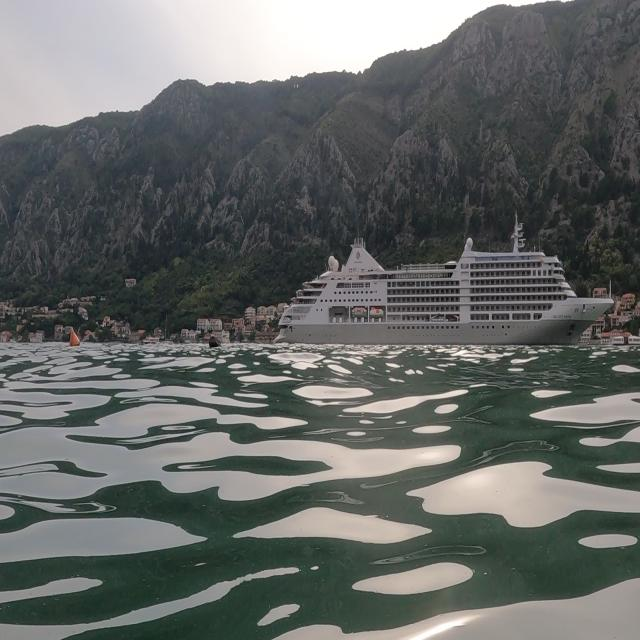boat: (272, 211, 615, 348)
buoy: (64, 321, 86, 350), (208, 326, 225, 356)
